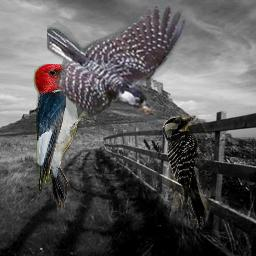Woodpecker: (47, 0, 192, 122), (31, 64, 93, 214), (162, 115, 218, 230)
